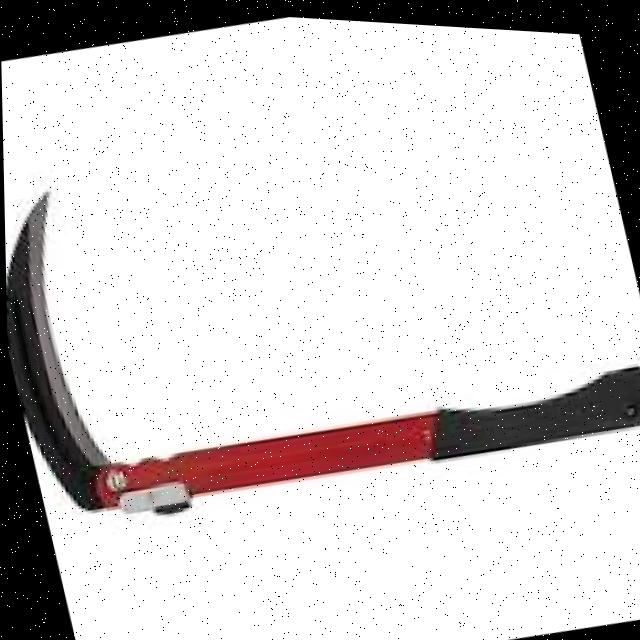sickle: (1, 44, 640, 583)
